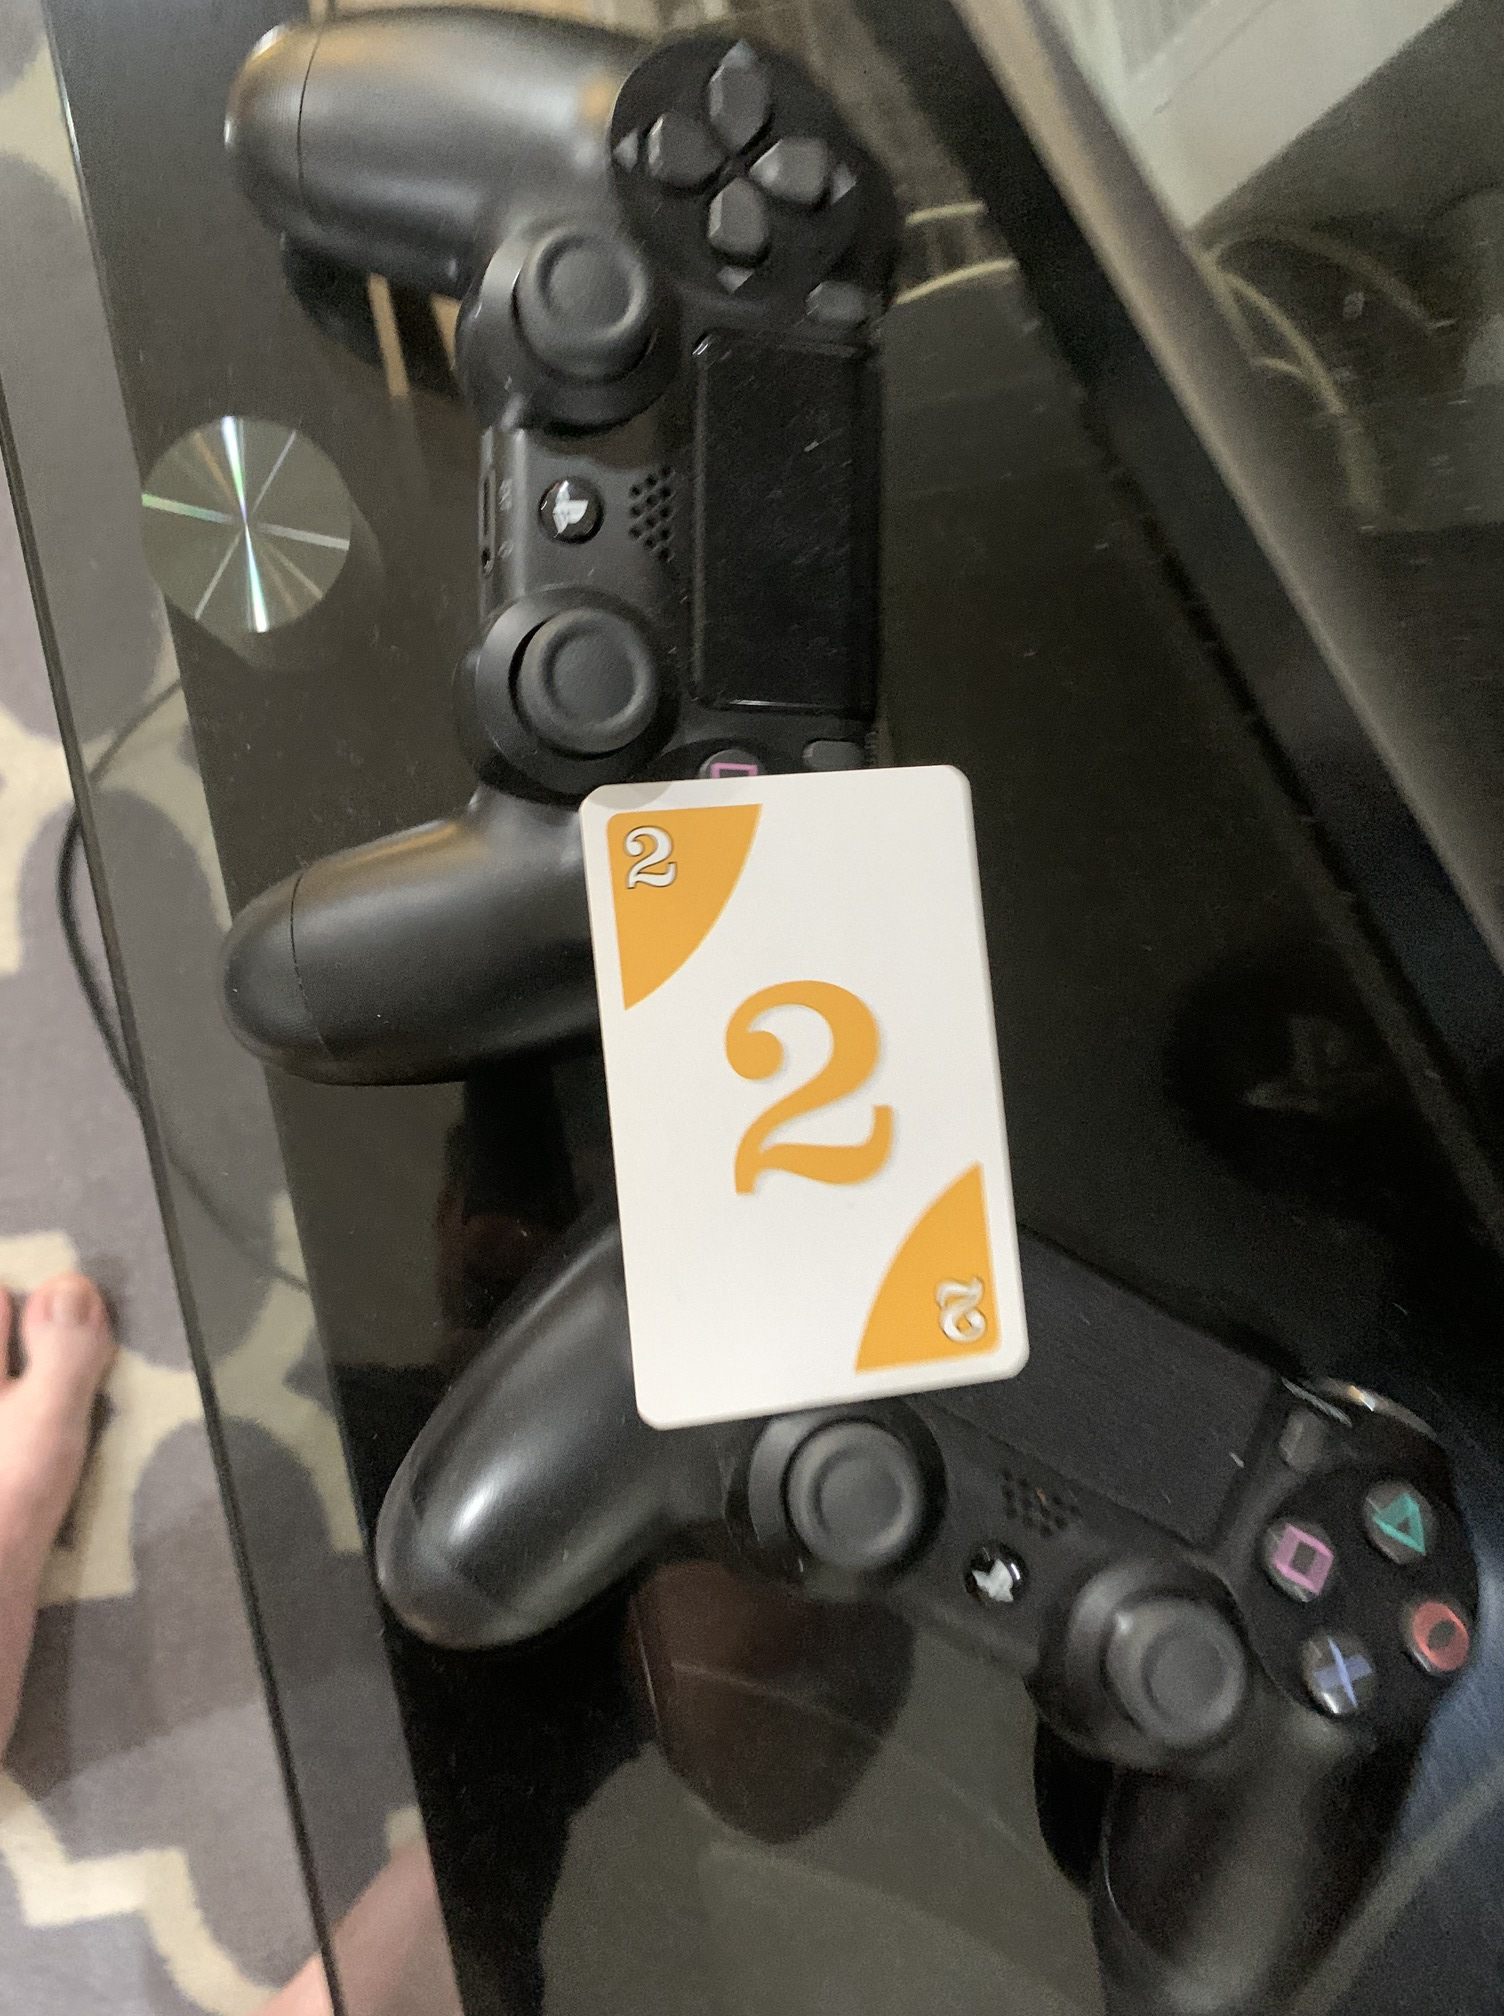two: (569, 746, 1033, 1436)
